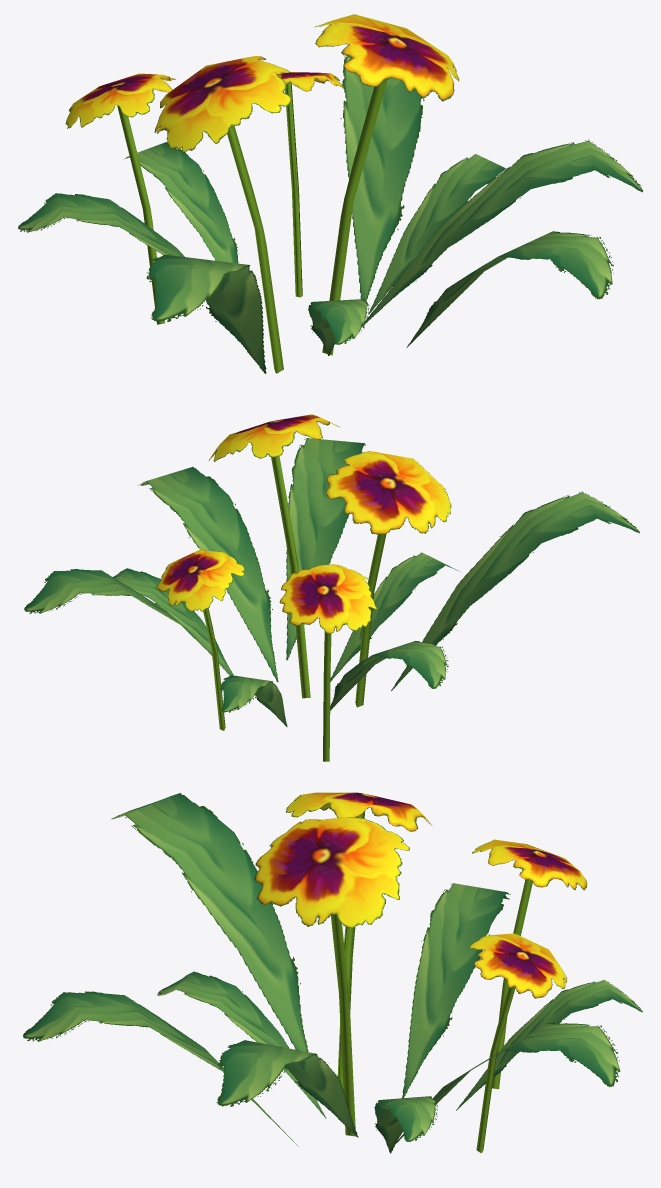
The model's file is ffffff.fbx.
3 renders of one model, top to bottom at view 1: azimuth 30°, elevation 25°; view 2: azimuth 150°, elevation 25°; view 3: azimuth 270°, elevation 25°, orthographic. The views are drawn at different scales.
Visible parts, largest first — view 1: Flower03; view 2: Flower03; view 3: Flower03.
Boxes of the visible parts, left/top/right/bottom form: Flower03: left=18, top=14, right=642, bottom=373; Flower03: left=24, top=414, right=639, bottom=761; Flower03: left=23, top=792, right=642, bottom=1153.
Size of the model in its own units: 9.09 by 4.88 by 8.76.
